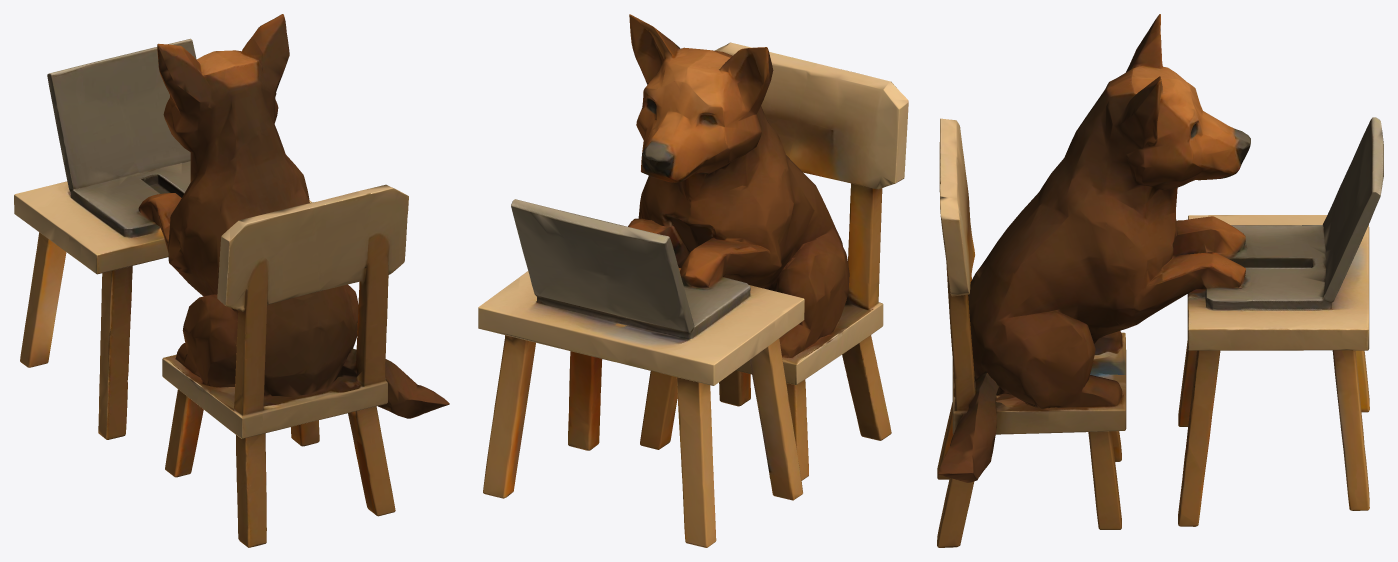
File: doggy.glb
The picture shows the model from 3 angles, left to right: view 1: azimuth 30°, elevation 25°; view 2: azimuth 150°, elevation 25°; view 3: azimuth 270°, elevation 25°; orthographic projection. The views are drawn at different scales.
Visible parts, largest first — view 1: tripo_node_86edbc73-cea7-4b26-acbb-338515d1fcd6; view 2: tripo_node_86edbc73-cea7-4b26-acbb-338515d1fcd6; view 3: tripo_node_86edbc73-cea7-4b26-acbb-338515d1fcd6.
Part boxes in pixels (<box>): tripo_node_86edbc73-cea7-4b26-acbb-338515d1fcd6: <box>14,14,449,547</box>; tripo_node_86edbc73-cea7-4b26-acbb-338515d1fcd6: <box>478,14,908,547</box>; tripo_node_86edbc73-cea7-4b26-acbb-338515d1fcd6: <box>937,14,1383,547</box>.
Size of the model in its own units: 0.5851 by 0.9998 by 0.8739.
1 material, 1 textured.
